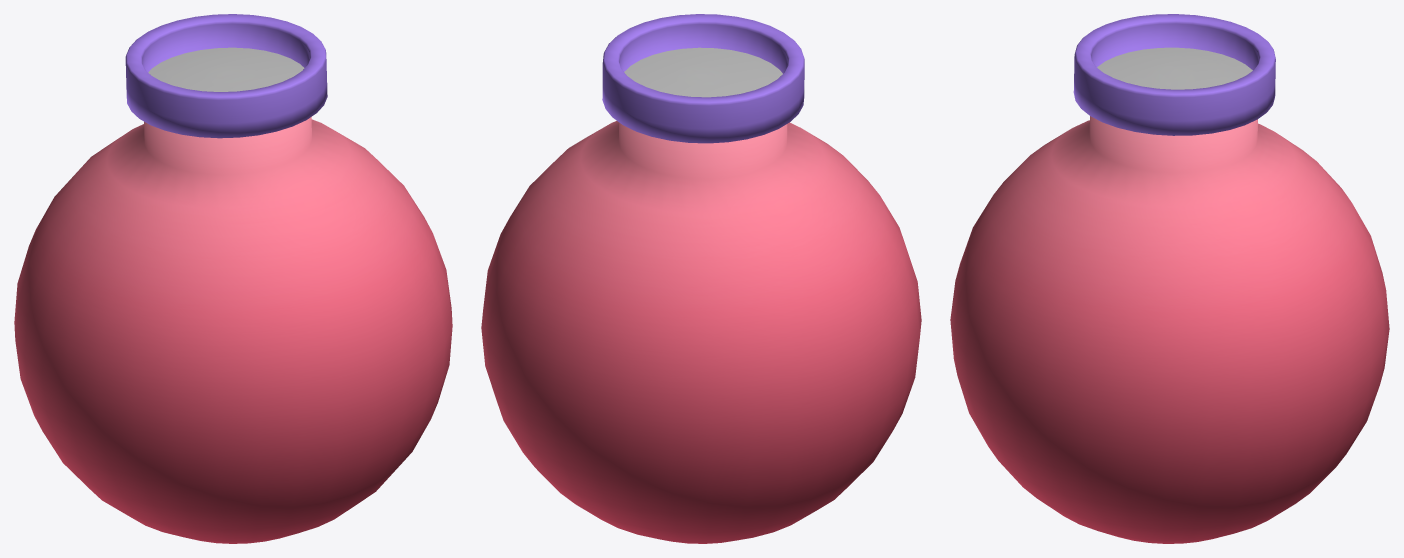
The model's file is prout.fbx.
3 renders of one model, left to right at view 1: azimuth 30°, elevation 25°; view 2: azimuth 150°, elevation 25°; view 3: azimuth 270°, elevation 25°, orthographic.
Parts seen in each view (by area): view 1: Sphere.639; view 2: Sphere.639; view 3: Sphere.639.
Boxes of the visible parts, x1,y1,x2,y2 form: Sphere.639: [14, 14, 452, 543]; Sphere.639: [481, 14, 921, 543]; Sphere.639: [950, 14, 1389, 543].
Bounding box in the file's own units: 45.65 × 53.83 × 45.65.
